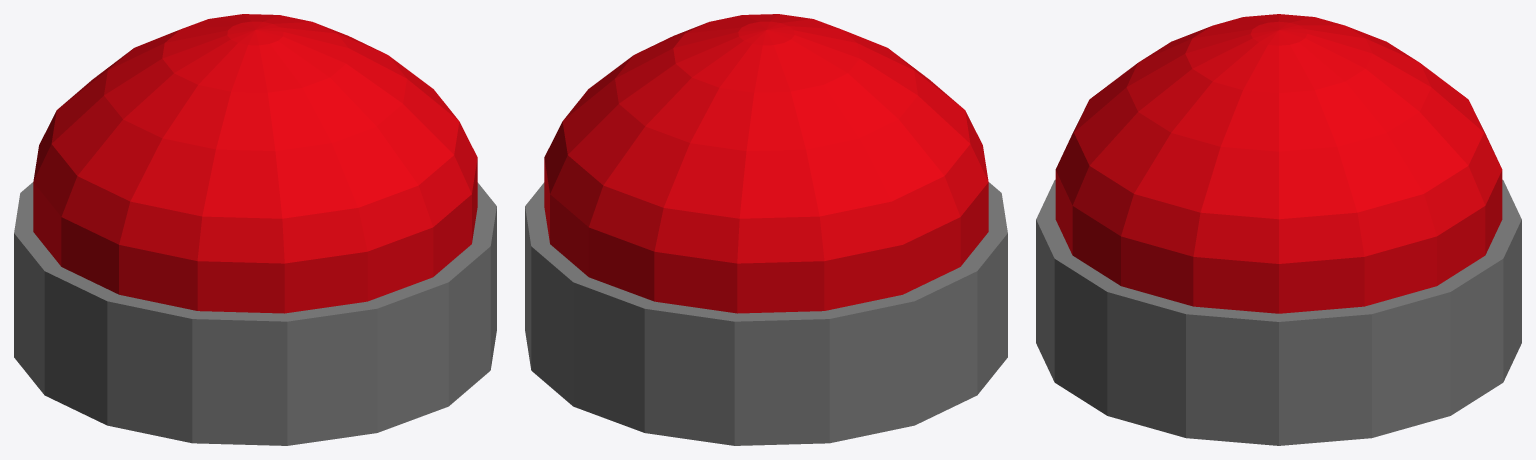
The model's file is Boton Rojo.fbx.
3 renders of one model, left to right at view 1: azimuth 30°, elevation 25°; view 2: azimuth 150°, elevation 25°; view 3: azimuth 270°, elevation 25°, orthographic.
Visible parts, largest first — view 1: Cylinder.001, Cylinder; view 2: Cylinder.001, Cylinder; view 3: Cylinder.001, Cylinder.
Part boxes in pixels (<box>): Cylinder.001: <box>33,14,477,313</box>; Cylinder: <box>14,182,496,445</box>; Cylinder.001: <box>544,14,988,313</box>; Cylinder: <box>525,182,1007,445</box>; Cylinder.001: <box>1055,14,1502,313</box>; Cylinder: <box>1036,179,1521,445</box>.
Bounding box in the file's own units: 65.23 × 46.4 × 65.23.
